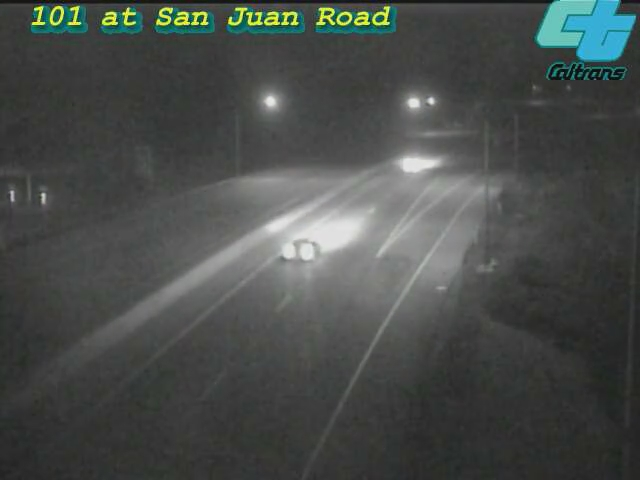vehicle: (371, 126, 451, 206), (257, 213, 337, 293)
